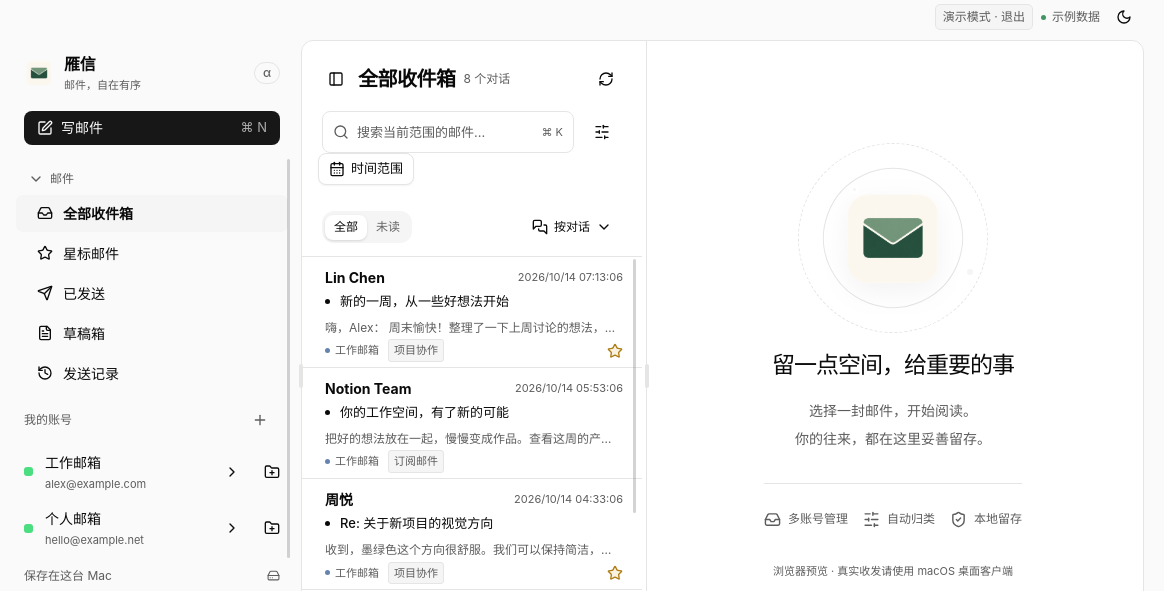
message and conversation display modes › reloads selected content when archival changes the original hash
This screenshot has width=1164, height=591.
Step 1. Click the button with class "nav-item" → [98, 213], box [16,195,288,232]
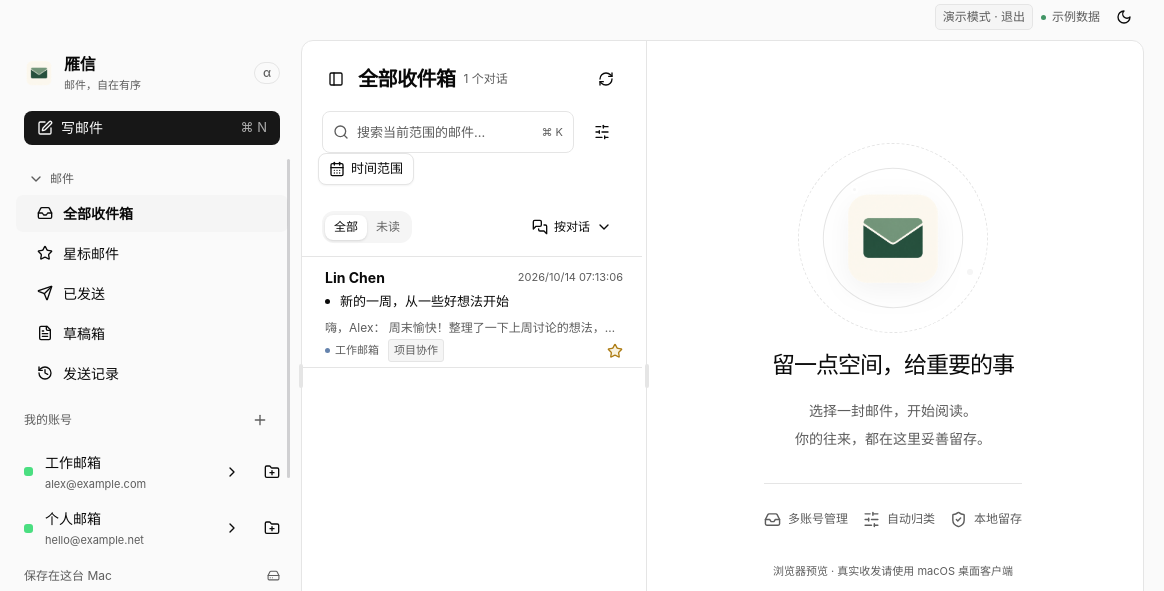
Step 2. Press ArrowDown in the button with aria-label "邮件显示方式", box [522,211,622,243]
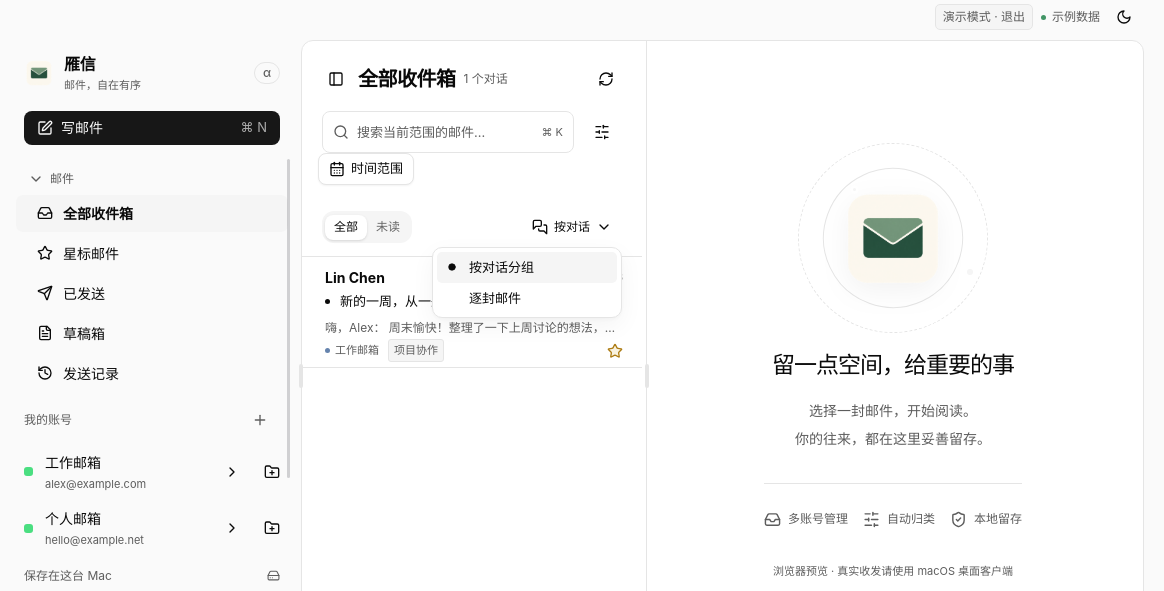
Expected: the menu item "逐封邮件" is shown
Step 3. Click the menu item "逐封邮件" → [495, 298], box [469,290,521,306]
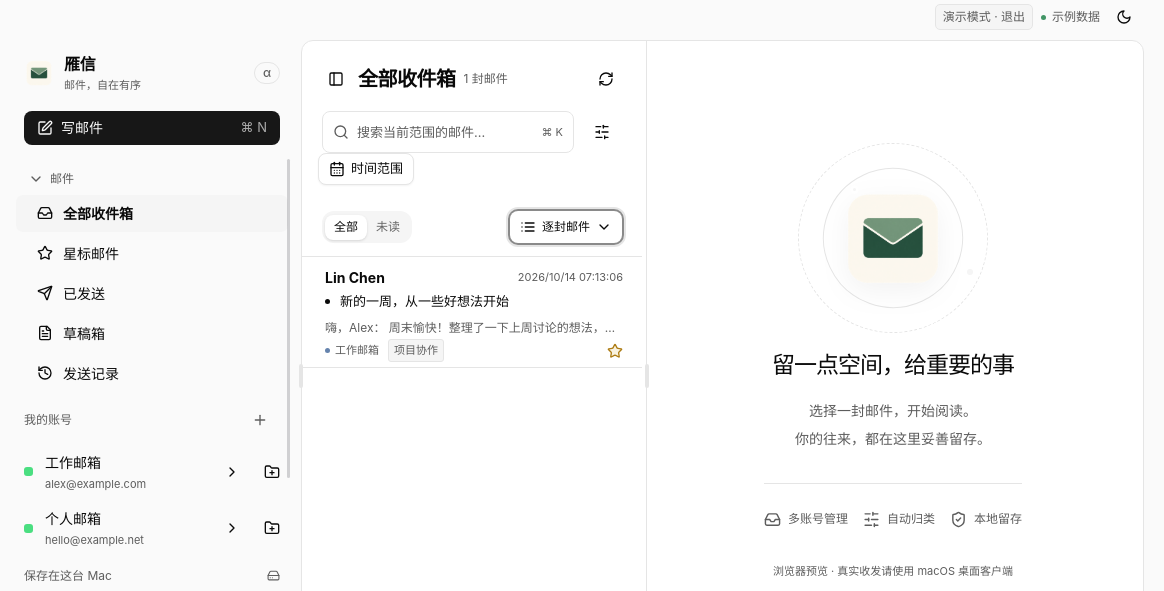
Step 4. Click the button with class "mail-row-main" → [355, 278], box [325,257,642,367]
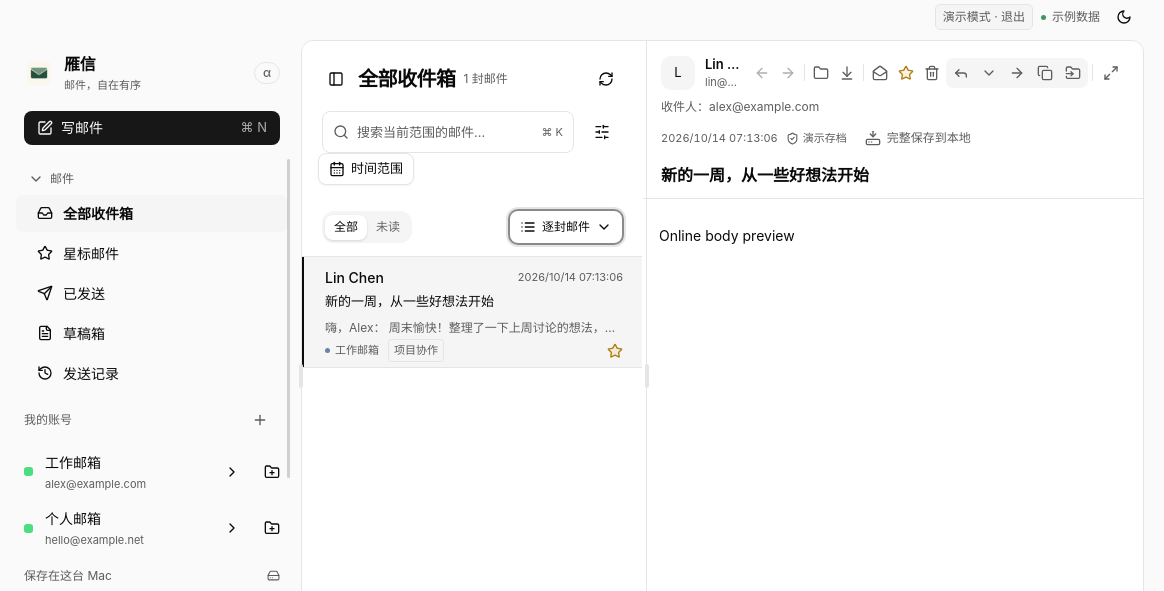
Expected: the text "Online body preview" is shown, [659,227,795,244]
Expected: the button "完整保存到本地" is shown
Step 5. Click the button "完整保存到本地" → [918, 138], box [855,122,981,154]
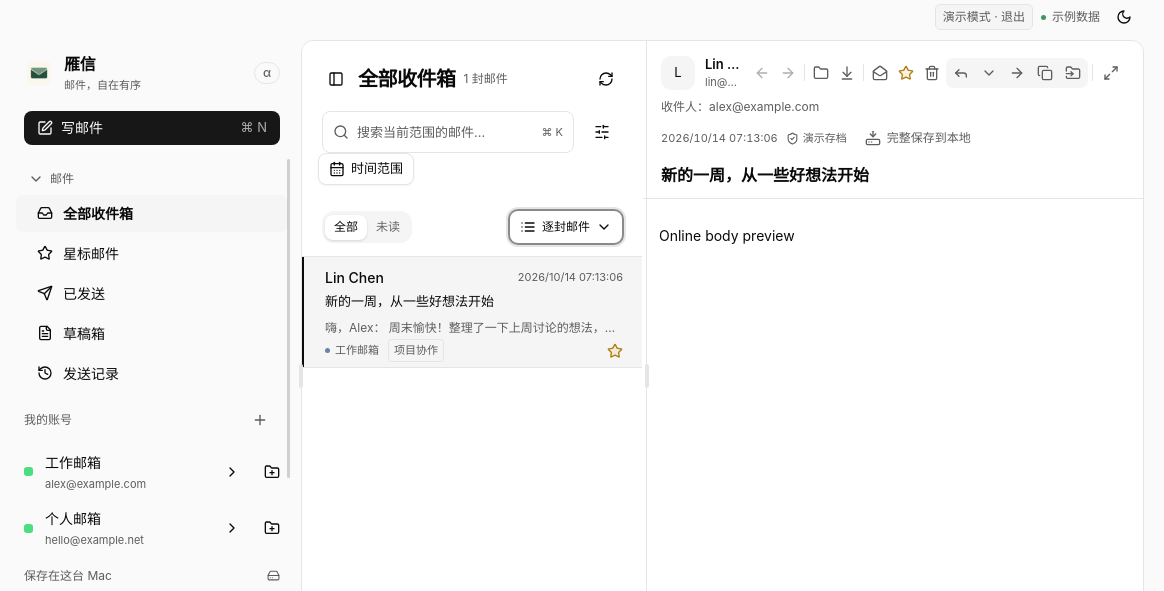
Expected: the button titled "取消星标" is shown
Step 6. Click the button titled "取消星标" → [906, 72], box [894,60,918,86]
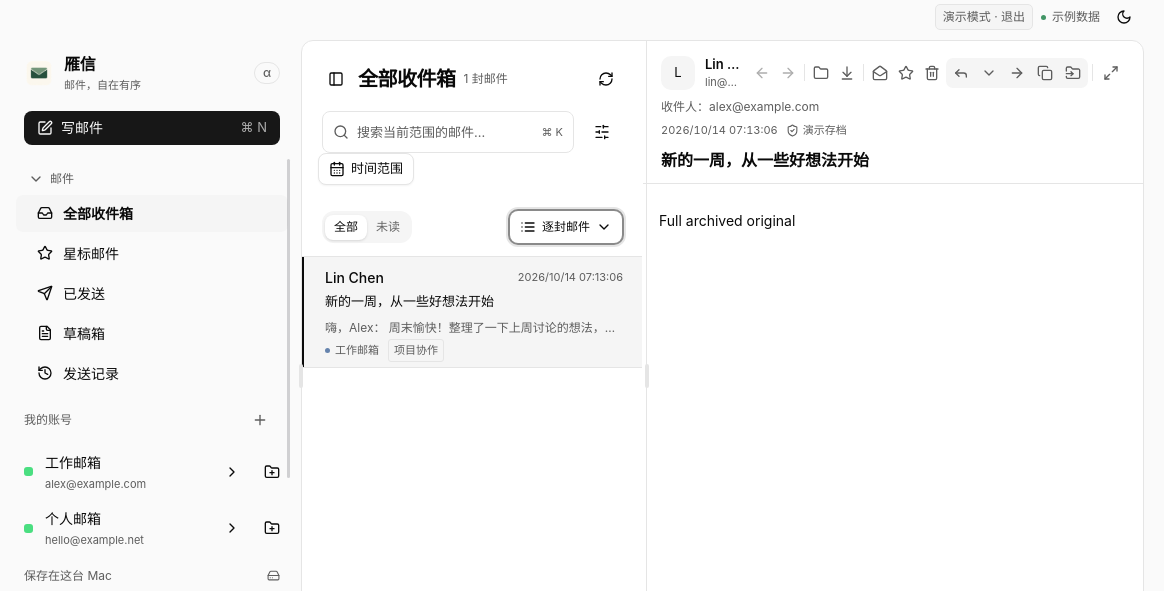
Expected: the text "Full archived original" is shown, [659,212,795,229]
Expected: the text "Online body preview" is gone
